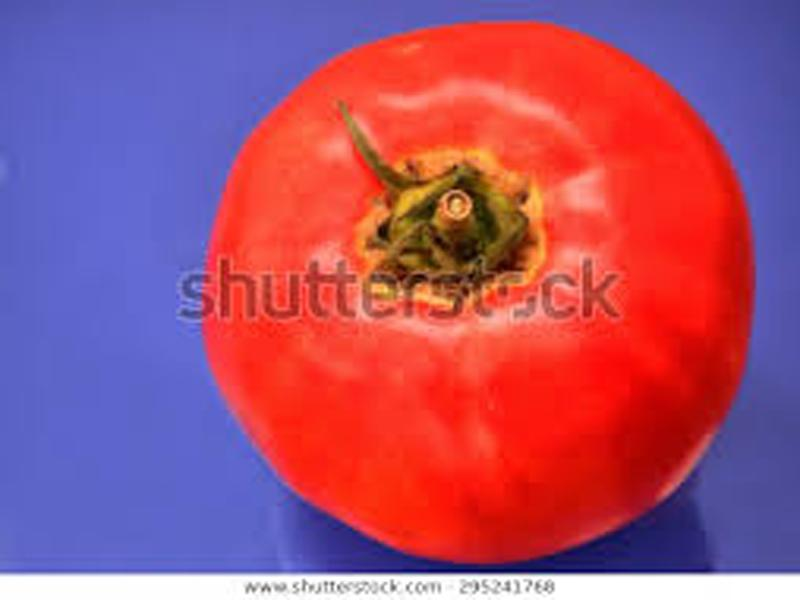Tomato: (202, 21, 756, 552)
